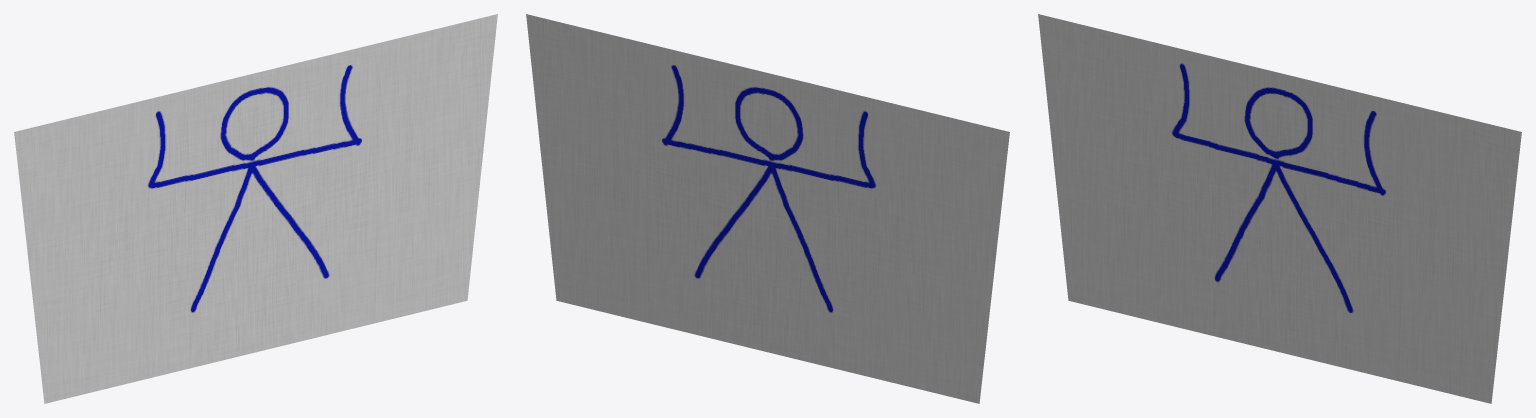
The model's file is HQCarthaginianSail.fbx.
3 views of the same model, side by side, from view 1: azimuth 30°, elevation 25°; view 2: azimuth 150°, elevation 25°; view 3: azimuth 330°, elevation 25° (orthographic).
Parts seen in each view (by area): view 1: Sail; view 2: Sail; view 3: Sail.
Boxes of the visible parts, x1,y1,x2,y2 form: Sail: (14,14,497,403); Sail: (526,14,1009,403); Sail: (1038,14,1521,403).
Size of the model in its own units: 6.41 by 0 by 3.54.
1 material, 1 textured.
